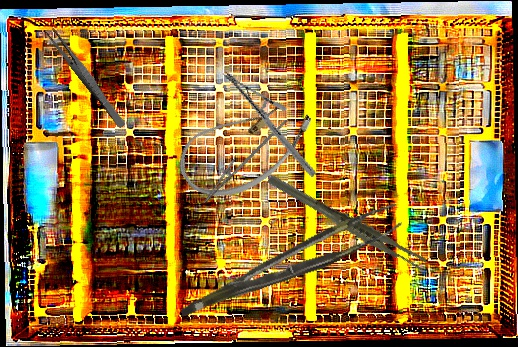Cannula: (167, 74, 324, 217)
Dressing Forceps: (44, 26, 129, 130)
Needle Holder: (200, 70, 339, 178), (196, 105, 288, 213)
Tissue Forceps: (170, 203, 408, 317), (265, 148, 430, 296)
